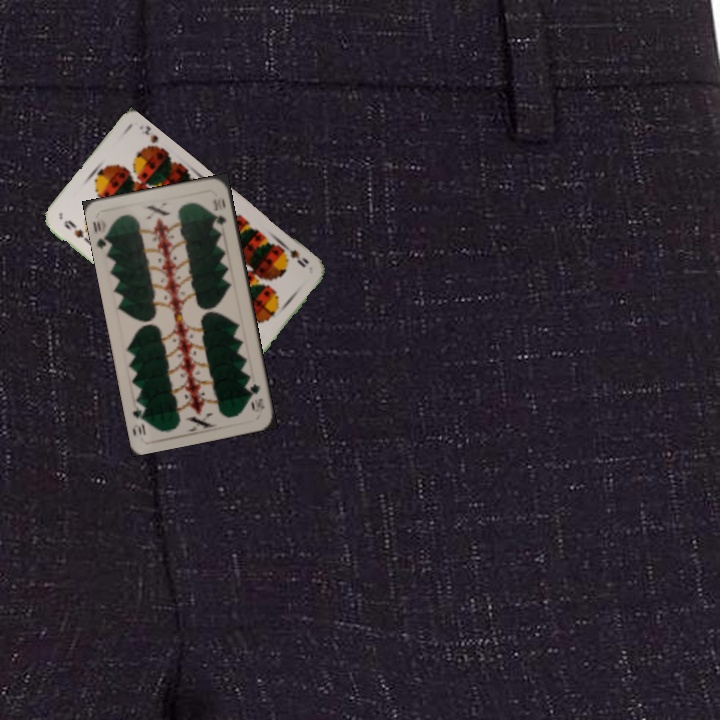G10: (89, 217, 114, 252), (245, 380, 267, 415)
S9: (277, 240, 311, 270), (60, 216, 93, 245)
